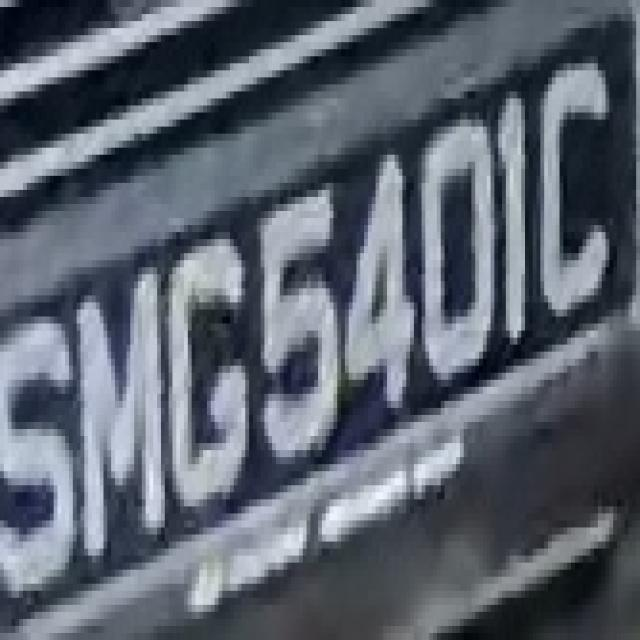0: (406, 98, 498, 408)
1: (498, 77, 529, 366)
4: (334, 155, 426, 450)
5: (245, 176, 349, 457)
C: (521, 42, 617, 345)
G: (161, 239, 245, 521)
M: (69, 260, 180, 570)
S: (0, 295, 73, 598)
